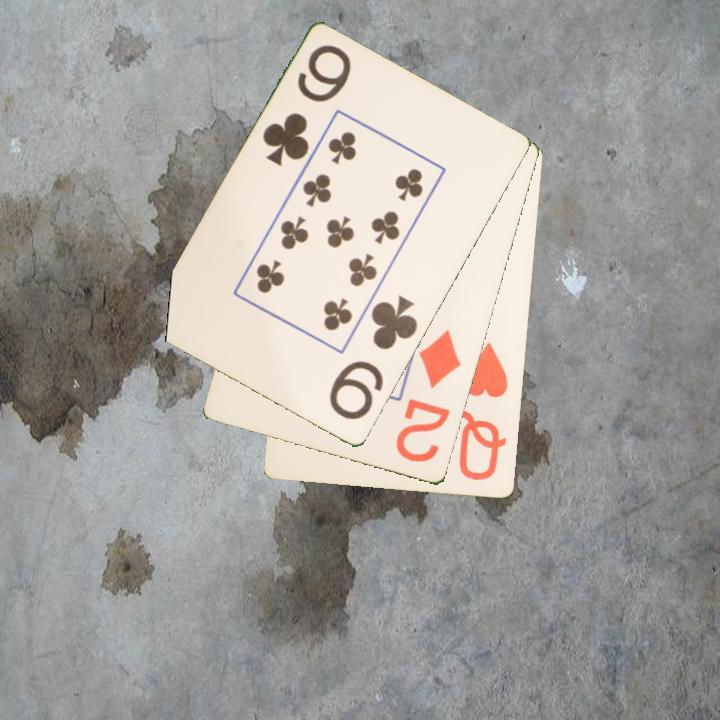2d: (392, 326, 465, 466)
9c: (325, 291, 421, 424), (258, 41, 355, 170)
Qh: (455, 340, 512, 484)
